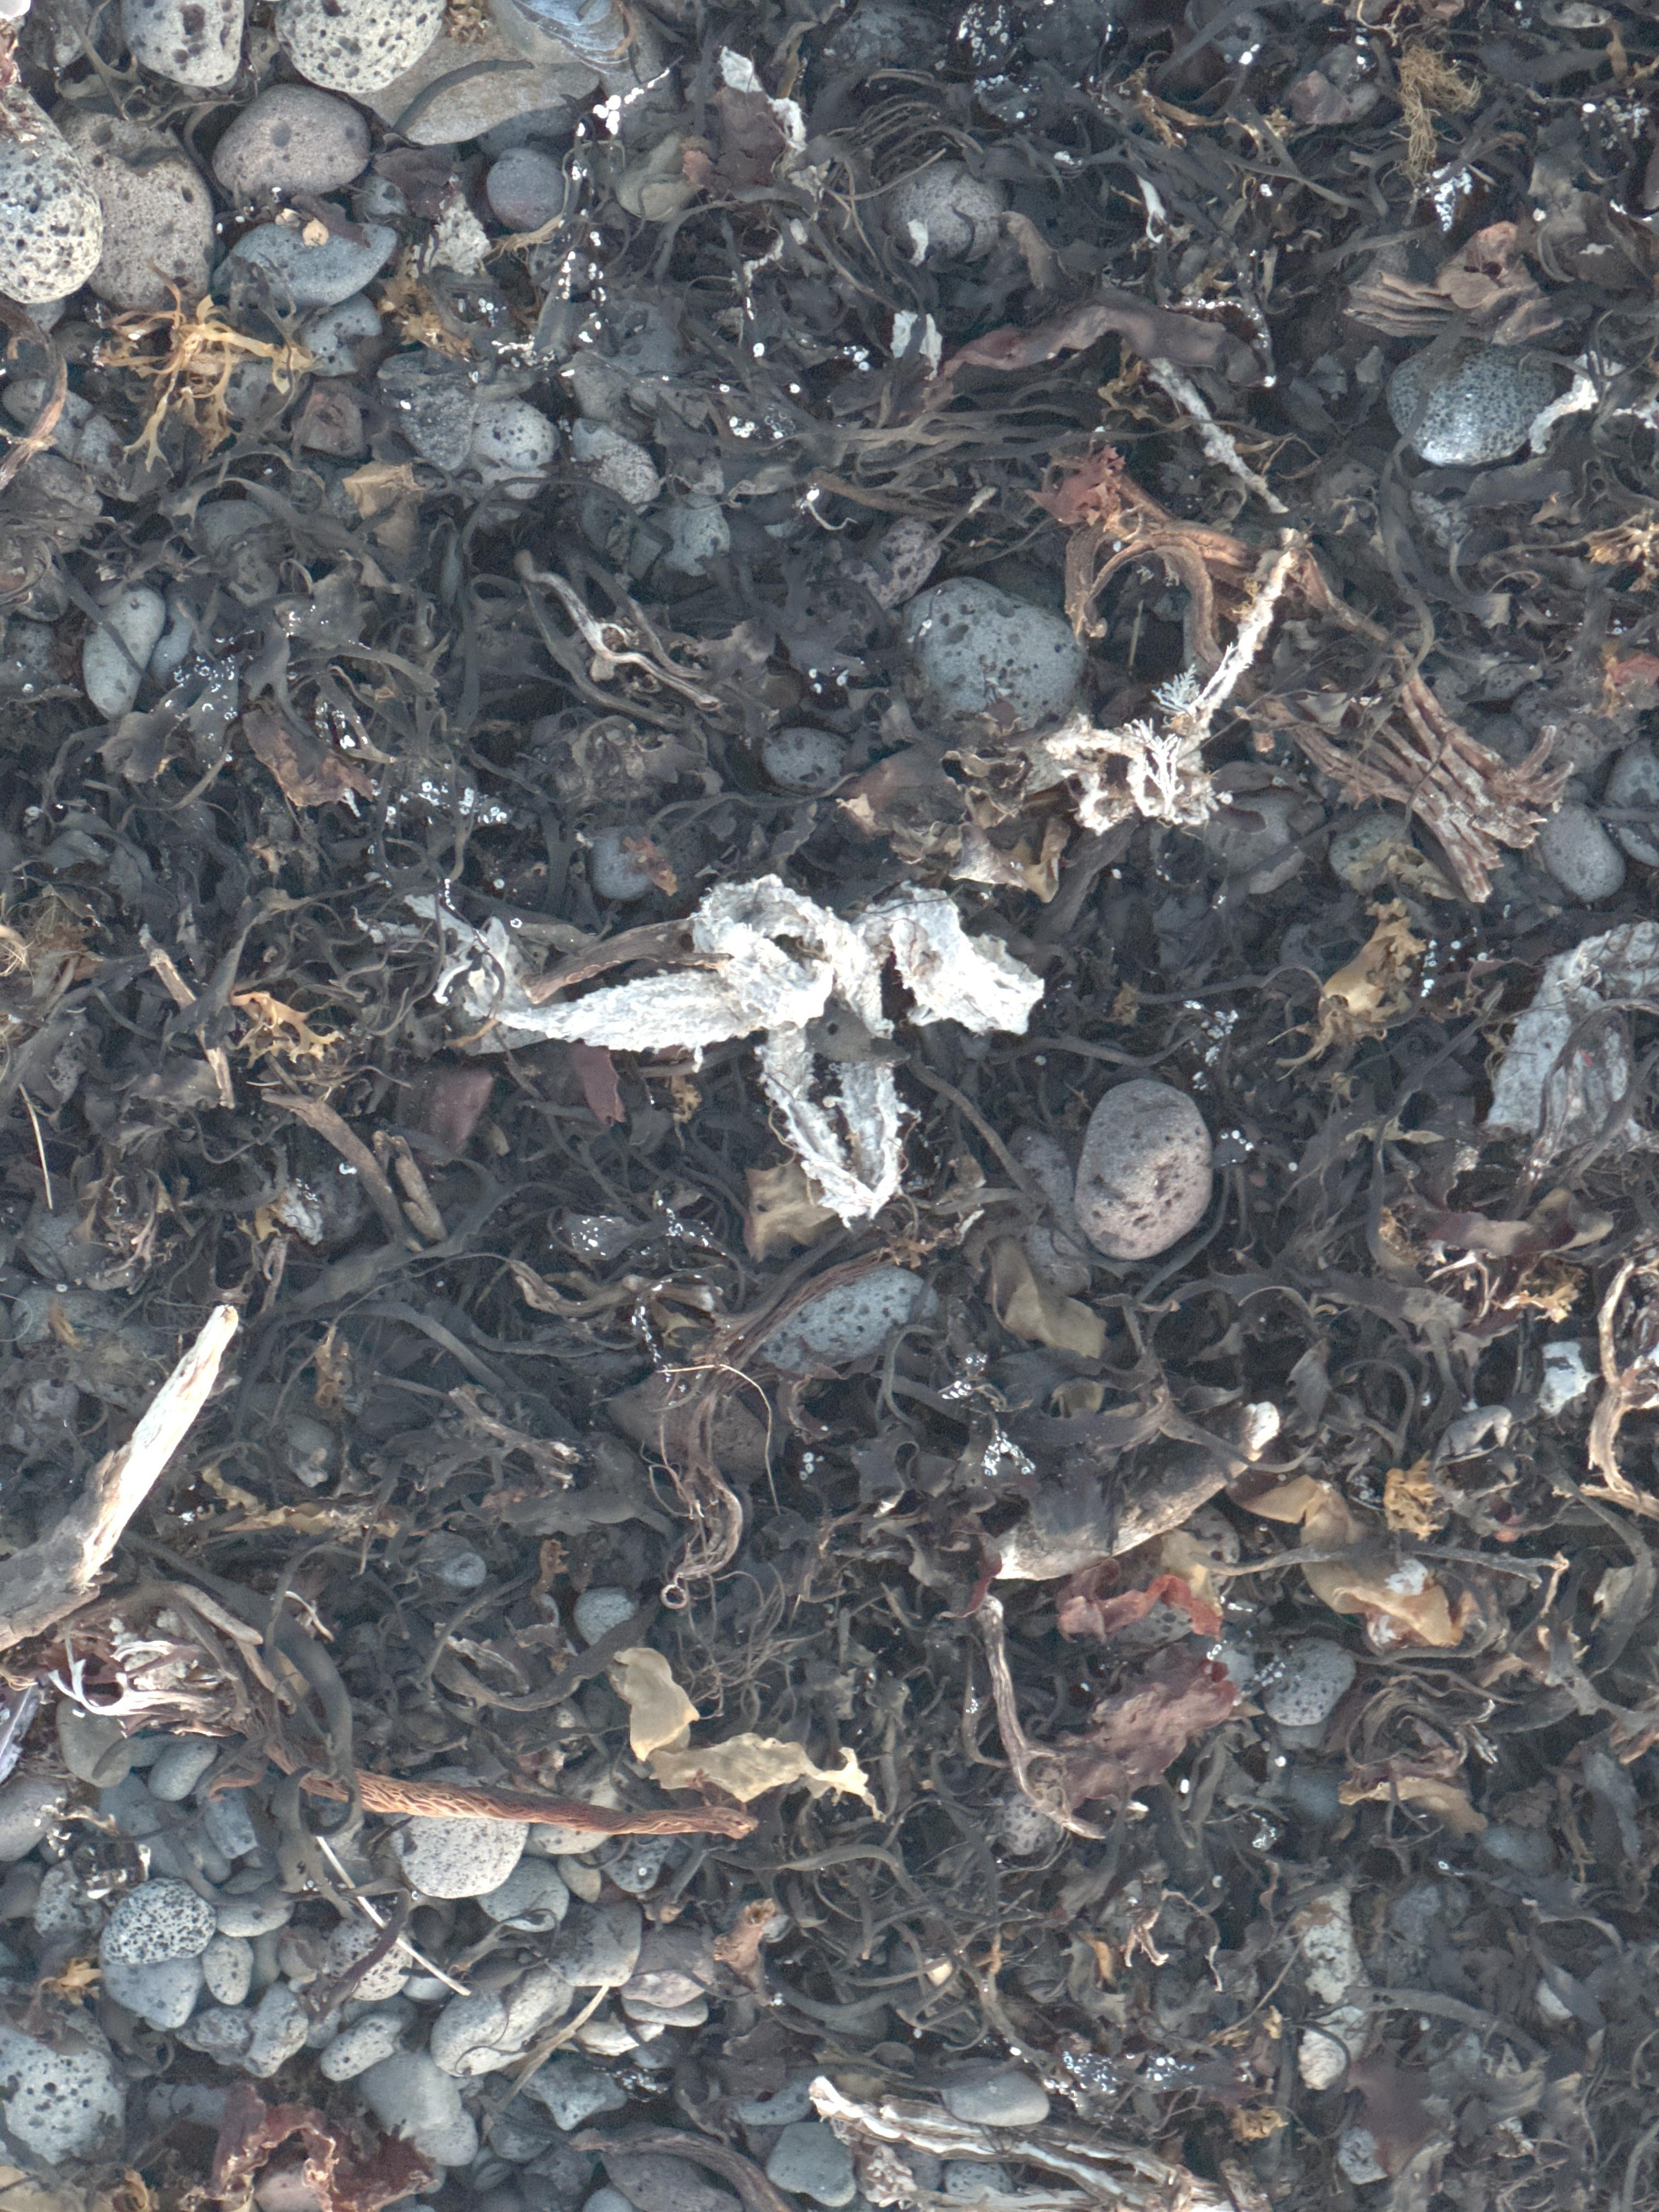trash: (411, 878, 1040, 1223), (1046, 531, 1305, 834)
